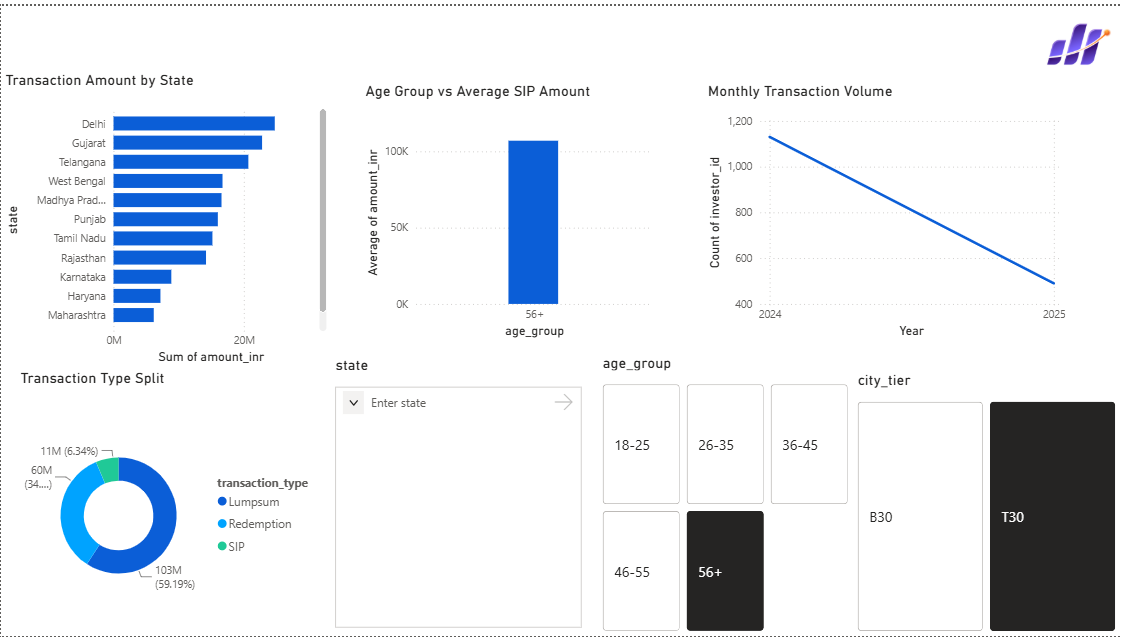

This screenshot's page, from the dashboard's own definition file:
{"tool":"powerbi","page":{"name":"Investor & Flow Analysis","canvas":[1280,720],"ordinal":2},"visuals":[{"type":"clusteredBarChart","title":"Transaction Amount by State","fields":{"Category":["08_investor_transactions.state"],"Y":["Sum(08_investor_transactions.amount_inr)"]},"box":[0,74.3,377.1,340],"z":0},{"type":"donutChart","title":"Transaction Type Split","fields":{"Category":["08_investor_transactions.transaction_type"],"Y":["Sum(08_investor_transactions.amount_inr)"]},"box":[17.1,414.3,342.9,305.7],"z":1000},{"type":"clusteredColumnChart","title":"Age Group vs Average SIP Amount","fields":{"Category":["08_investor_transactions.age_group"],"Y":["Avg(08_investor_transactions.amount_inr)"]},"box":[411.4,87.1,338.6,297.1],"z":2000},{"type":"lineChart","title":"Monthly Transaction Volume","fields":{"Category":["08_investor_transactions.transaction_date.Variation.Date Hierarchy.Year","08_investor_transactions.transaction_date.Variation.Date Hierarchy.Quarter","08_investor_transactions.transaction_date.Variation.Date Hierarchy.Month","08_investor_transactions.transaction_date.Variation.Date Hierarchy.Day"],"Y":["CountNonNull(08_investor_transactions.investor_id)"]},"box":[802.9,87.1,418.6,297.1],"z":3000},{"type":"textSlicer","fields":{"Values":["08_investor_transactions.state"]},"box":[377.1,400,291.4,315.7],"z":4000},{"type":"advancedSlicerVisual","fields":{"Values":["08_investor_transactions.age_group"]},"box":[682.9,397.1,291.4,322.9],"z":5000},{"type":"advancedSlicerVisual","fields":{"Values":["08_investor_transactions.city_tier"]},"box":[974.3,417.1,305.7,302.9],"z":6000},{"type":"image","box":[1180,0,100,87.1],"z":6001}]}

Visuals, with their boxes in screenshot pixels (x1, y1, x2, y2), scaled from the page's 1280x720 canvas onto the 1121x637 screenshot:
"Transaction Amount by State" clusteredBarChart: (0,66,330,367)
"Transaction Type Split" donutChart: (15,367,315,636)
"Age Group vs Average SIP Amount" clusteredColumnChart: (360,77,657,340)
"Monthly Transaction Volume" lineChart: (703,77,1070,340)
textSlicer - 08_investor_transactions.state: (330,354,585,633)
advancedSlicerVisual - 08_investor_transactions.age_group: (598,351,853,636)
advancedSlicerVisual - 08_investor_transactions.city_tier: (853,369,1120,636)
image: (1033,0,1120,77)
